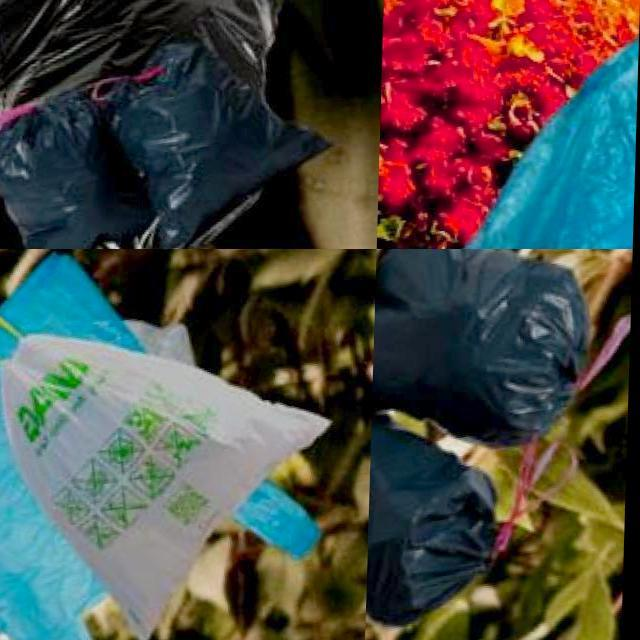Single-layer Plastic: (0, 251, 336, 640), (4, 335, 329, 637), (108, 40, 328, 248), (374, 250, 589, 443), (469, 41, 637, 249), (368, 419, 495, 624), (0, 91, 151, 248)
